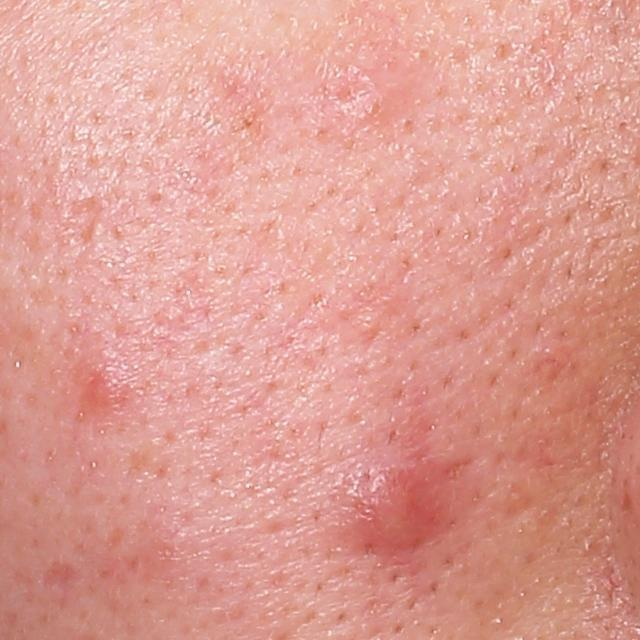atrophic_scar: (41, 561, 85, 612)
papule: (347, 457, 446, 554), (320, 67, 381, 125), (79, 372, 127, 408)
